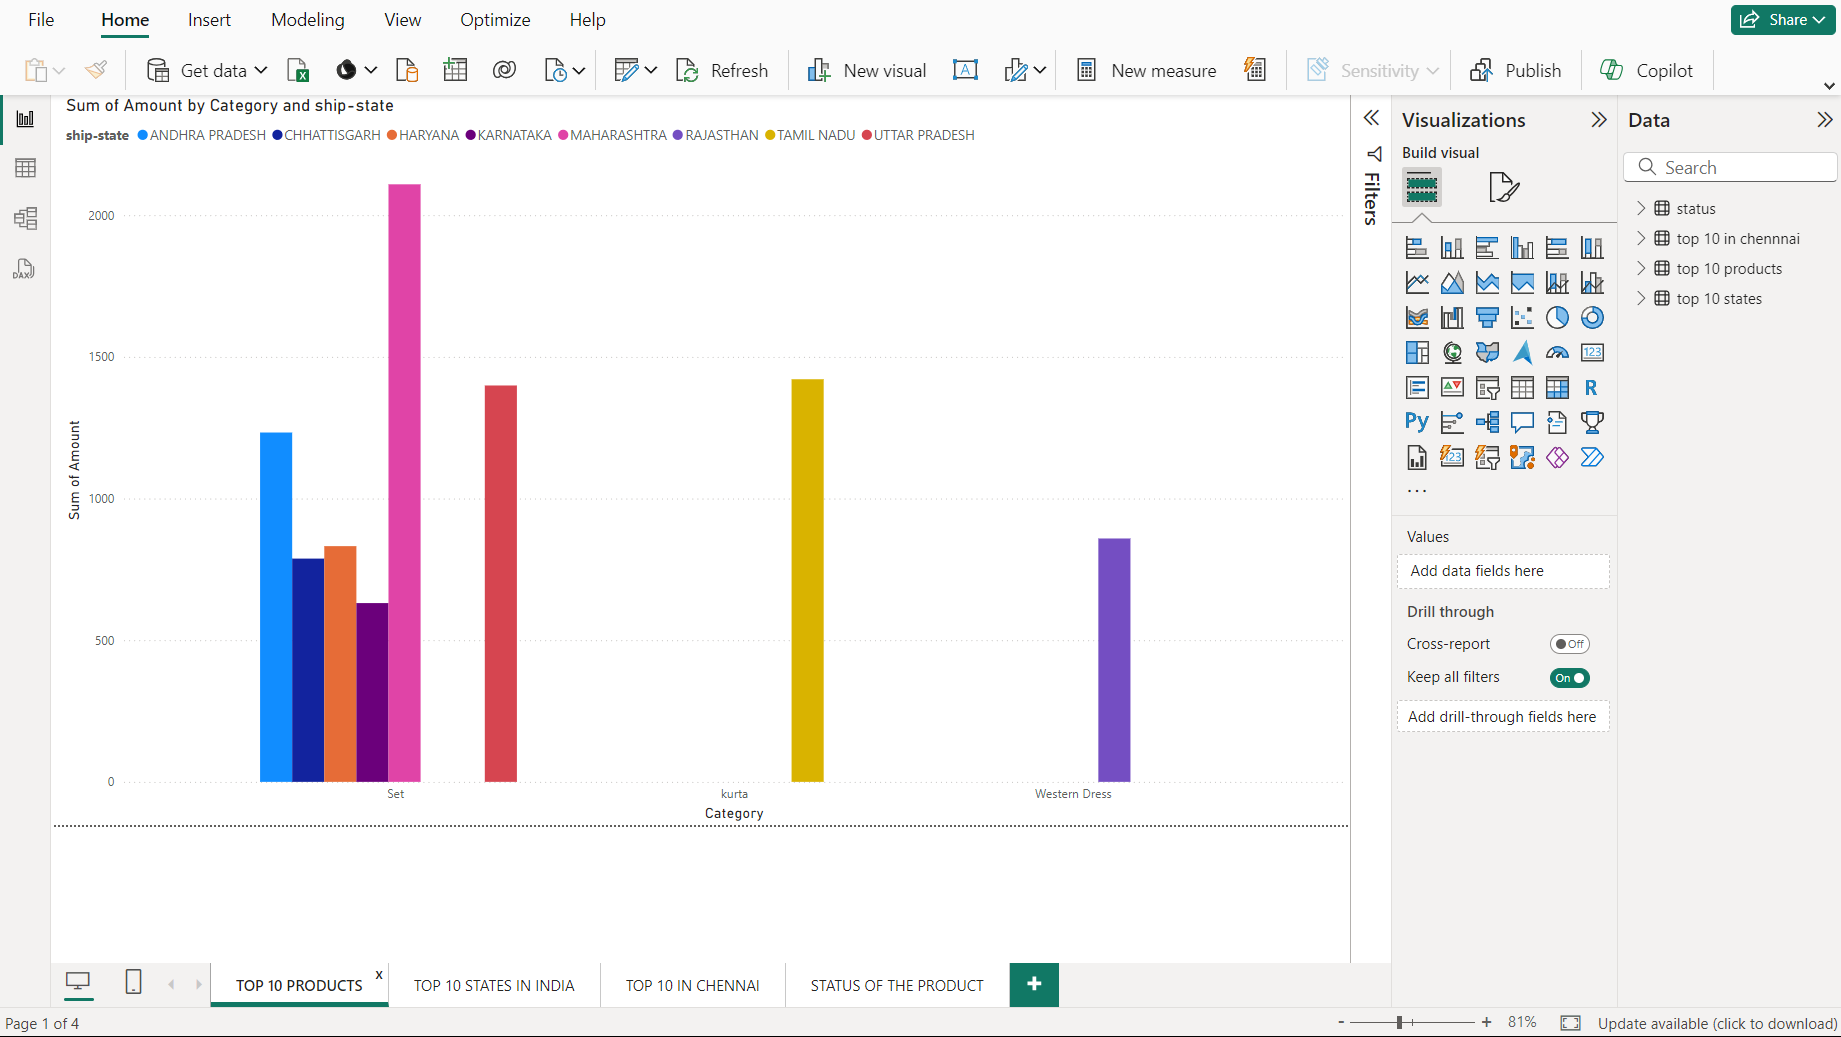

What the dashboard file says about the page in this screenshot:
{"tool":"powerbi","page":{"name":"TOP 10 PRODUCTS","canvas":[1280,720],"ordinal":0},"visuals":[{"type":"clusteredColumnChart","fields":{"Category":["top 10 products.Category"],"Series":["top 10 products.ship-state"],"Y":["Sum(top 10 products.Amount)"]},"box":[9.9,0,1269.9,720.6],"z":0}]}

Visuals, with their boxes on the page's 1280x720 design canvas (x1, y1, x2, y2). These are canvas units, not pixel positions in the 1841x1037 screenshot, which may show the page scaled, cropped or inside an application window:
clusteredColumnChart - top 10 products.Category x top 10 products.ship-state: x1=10, y1=0, x2=1280, y2=721
